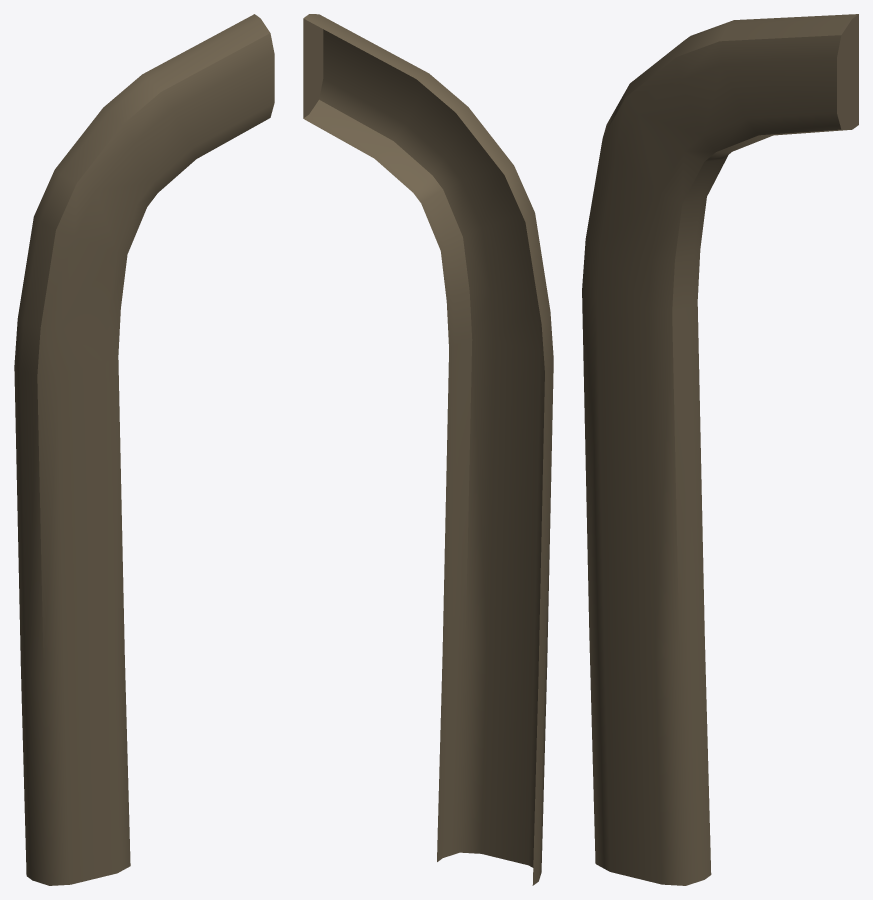
File: SM_Beam03.fbx
The picture shows the model from 3 angles, left to right: view 1: azimuth 30°, elevation 25°; view 2: azimuth 150°, elevation 25°; view 3: azimuth 330°, elevation 25°; orthographic projection. The views are drawn at different scales.
Parts seen in each view (by area): view 1: pCube55; view 2: pCube55; view 3: pCube55.
Part boxes in pixels (<box>): pCube55: <box>14,14,274,885</box>; pCube55: <box>303,14,553,885</box>; pCube55: <box>582,14,858,885</box>.
Bounding box in the file's own units: 104 × 332 × 14.88.
